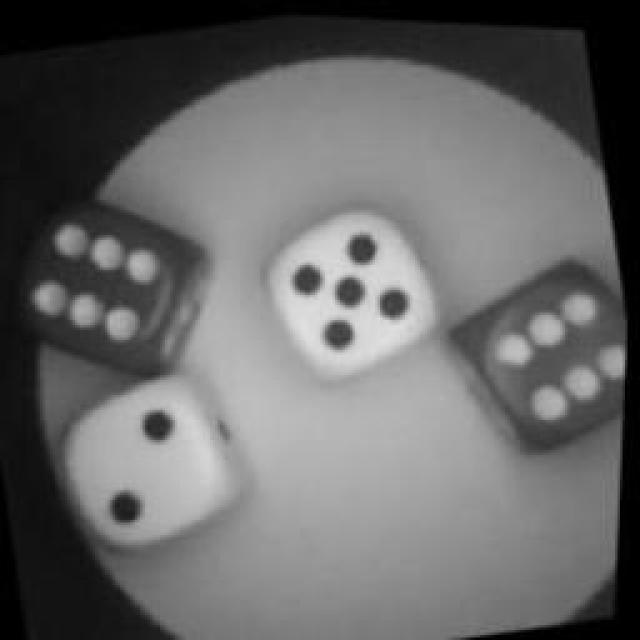dice_2: (50, 354, 265, 558)
dice_5: (262, 192, 446, 386)
dice_6: (0, 184, 208, 391), (452, 241, 632, 454)
